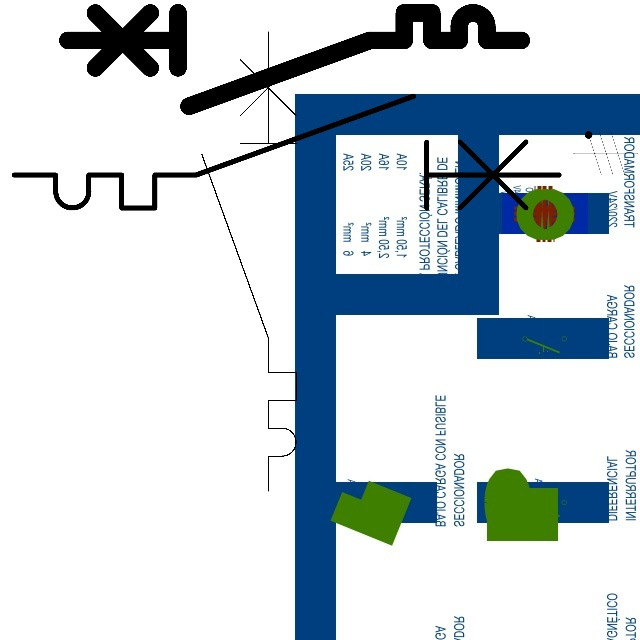interruptor_termomagnetico: (0, 82, 573, 222), (190, 20, 308, 503), (56, 1, 533, 118)
